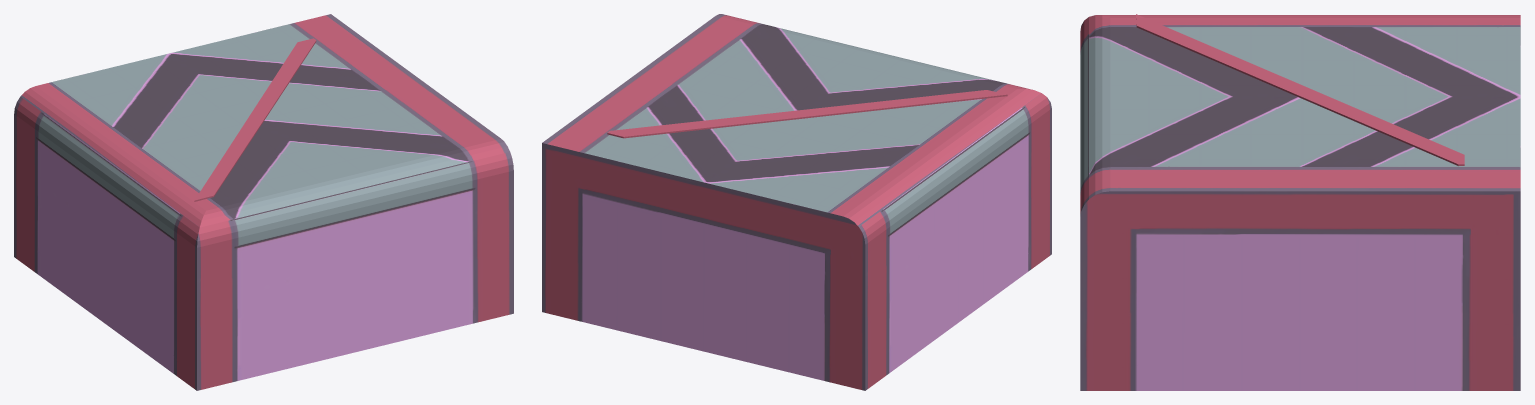
File: baseL.gltf
3 renders of one model, left to right at view 1: azimuth 30°, elevation 25°; view 2: azimuth 150°, elevation 25°; view 3: azimuth 270°, elevation 25°, orthographic. The views are drawn at different scales.
Parts seen in each view (by area): view 1: Cube; view 2: Cube; view 3: Cube.
Part boxes in pixels (x1,y1,x2,y2): Cube: (14, 14, 513, 390); Cube: (542, 14, 1051, 390); Cube: (1080, 14, 1520, 390).
Size of the model in its own units: 2 by 1.02 by 2.
2 materials, 2 textured.
